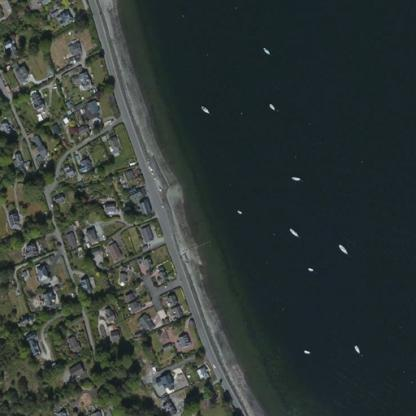ship: (346, 339, 367, 358), (282, 221, 301, 241), (332, 239, 353, 257), (195, 100, 211, 117), (263, 98, 280, 114), (258, 40, 273, 58), (303, 261, 317, 277), (299, 343, 313, 358), (232, 204, 246, 218), (288, 172, 304, 184)
